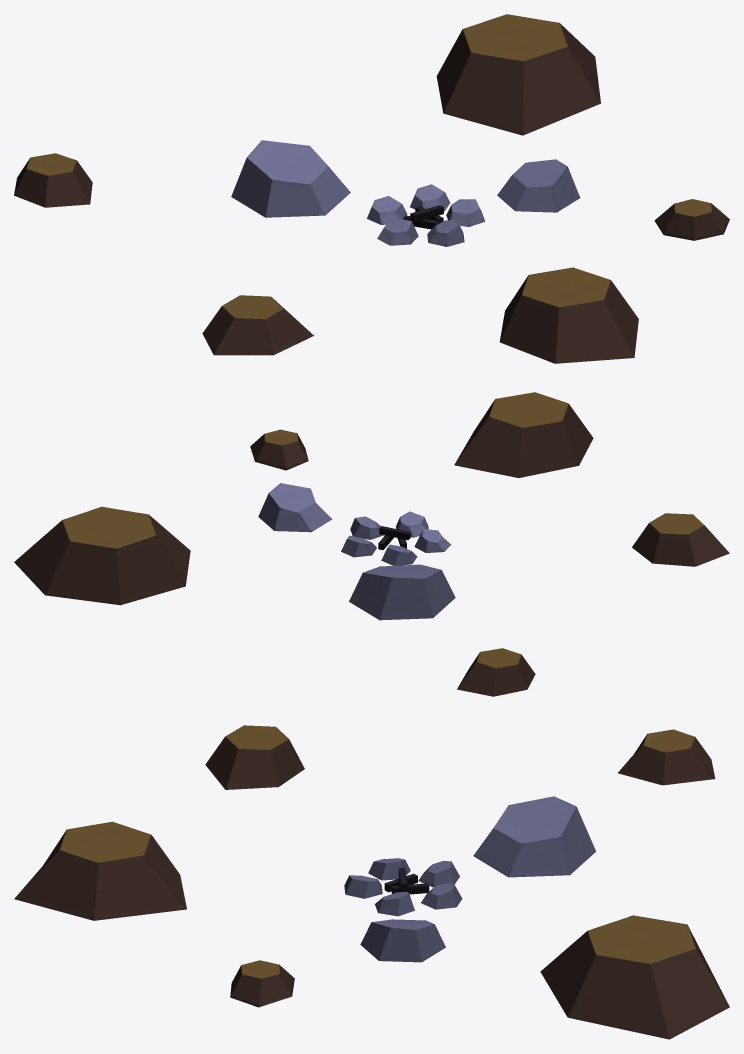
Rendered from tile_wood_2_ruin_lod0.fbx.
3 views of the same model, one above another, from view 1: azimuth 30°, elevation 25°; view 2: azimuth 150°, elevation 25°; view 3: azimuth 270°, elevation 25° (orthographic). The views are drawn at different scales.
Visible parts, largest first — view 1: wood_2_ruin_lod0; view 2: wood_2_ruin_lod0; view 3: wood_2_ruin_lod0.
Boxes of the visible parts, x1,y1,x2,y2 form: wood_2_ruin_lod0: [14, 14, 729, 363]; wood_2_ruin_lod0: [14, 392, 729, 696]; wood_2_ruin_lod0: [14, 725, 729, 1039].
Size of the model in its own units: 0.0459 by 0.00386 by 0.0468.
